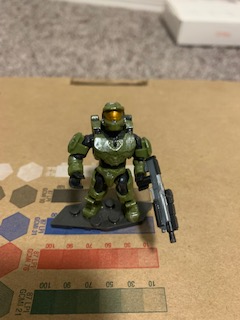chief: (65, 101, 154, 227)
rifle: (138, 154, 181, 244)
spartan: (63, 99, 152, 225)
